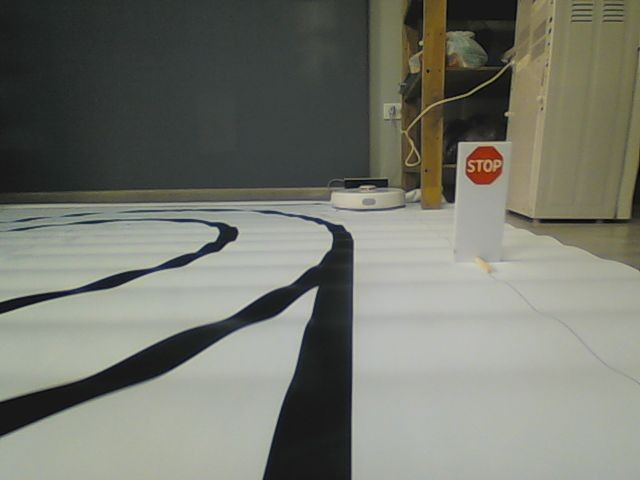Stop: (466, 146, 503, 186)
